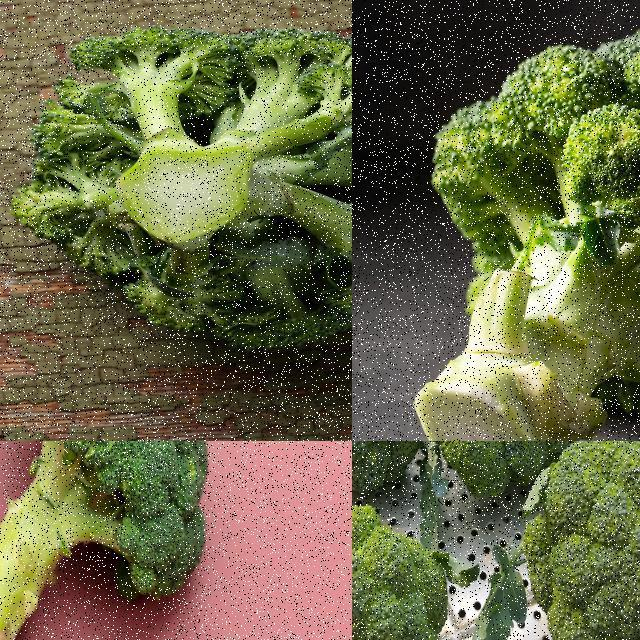broccoli: (4, 18, 351, 361), (411, 23, 639, 440), (0, 441, 219, 639), (520, 441, 639, 639), (352, 496, 447, 639), (430, 441, 599, 504)
